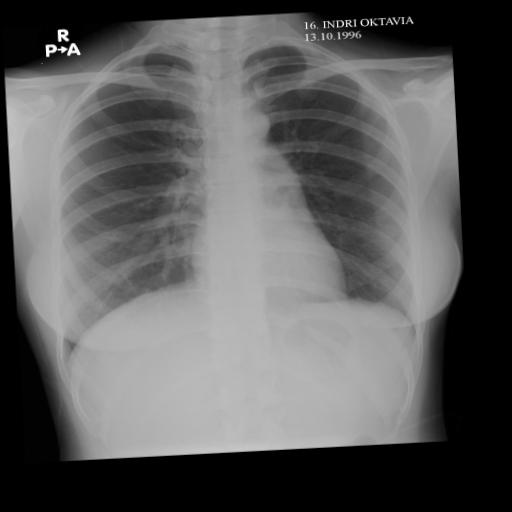normal: (36, 12, 444, 390)
